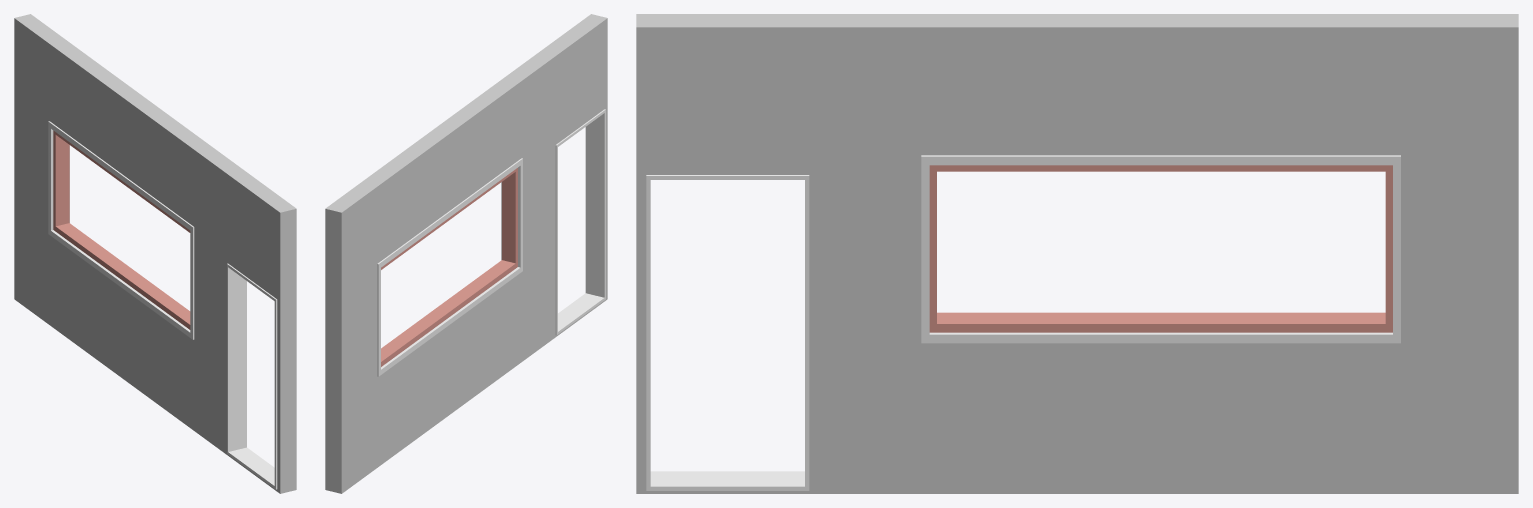
Rendered from P_0173_broadcast_soundproof_frame.fbx.
3 views of the same model, side by side, from view 1: azimuth 30°, elevation 25°; view 2: azimuth 150°, elevation 25°; view 3: azimuth 270°, elevation 25° (orthographic). The views are drawn at different scales.
Parts seen in each view (by area): view 1: Cube.003; view 2: Cube.003; view 3: Cube.003.
Part boxes in pixels (bbox=[...]): Cube.003: bbox=[14, 14, 296, 493]; Cube.003: bbox=[325, 14, 607, 493]; Cube.003: bbox=[636, 14, 1518, 493].
Size of the model in its own units: 24.98 by 350 by 600.
